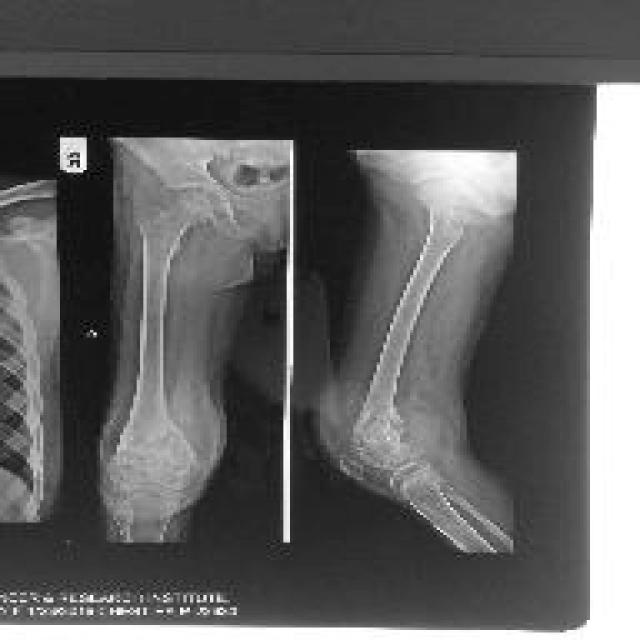bone-cancer: (105, 420, 210, 516), (347, 401, 424, 473)
